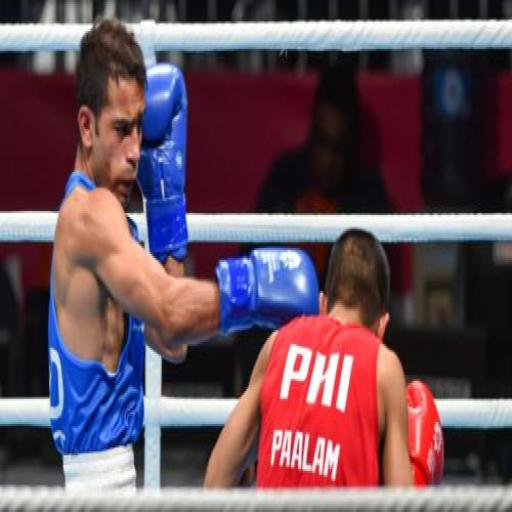boxing: (45, 16, 321, 510), (228, 219, 400, 512)
